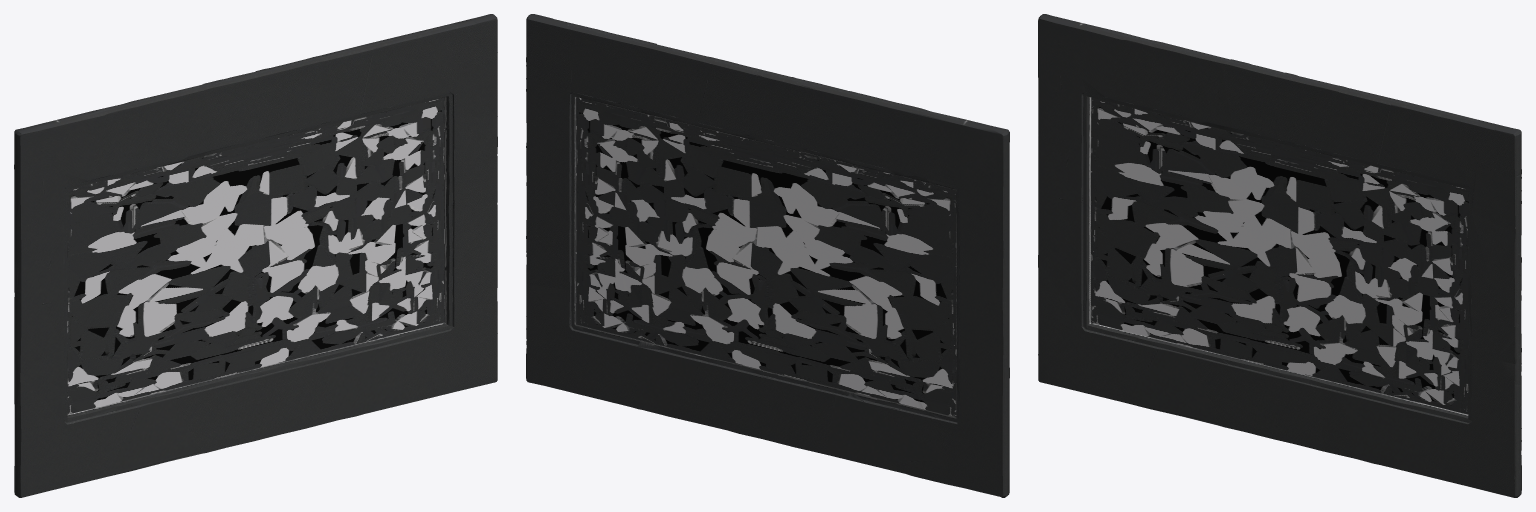
Rendered from photo-frame-v2.glb.
3 views of the same model, side by side, from view 1: azimuth 30°, elevation 25°; view 2: azimuth 150°, elevation 25°; view 3: azimuth 330°, elevation 25° (orthographic).
Parts seen in each view (by area): view 1: frame, backing; view 2: frame, backing; view 3: frame, backing.
Part boxes in pixels (<box>): frame: <box>14,14,497,497</box>; backing: <box>67,97,444,414</box>; frame: <box>526,14,1009,497</box>; backing: <box>576,97,956,417</box>; frame: <box>1038,14,1521,497</box>; backing: <box>1091,97,1468,414</box>.
Size of the model in its own units: 1.9 by 1.39 by 0.0468.
1 material, 1 textured.
